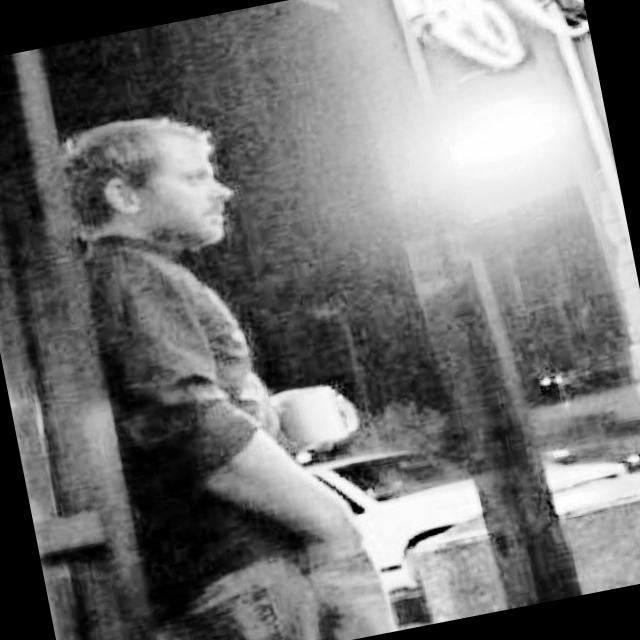Person: (39, 85, 399, 640)
